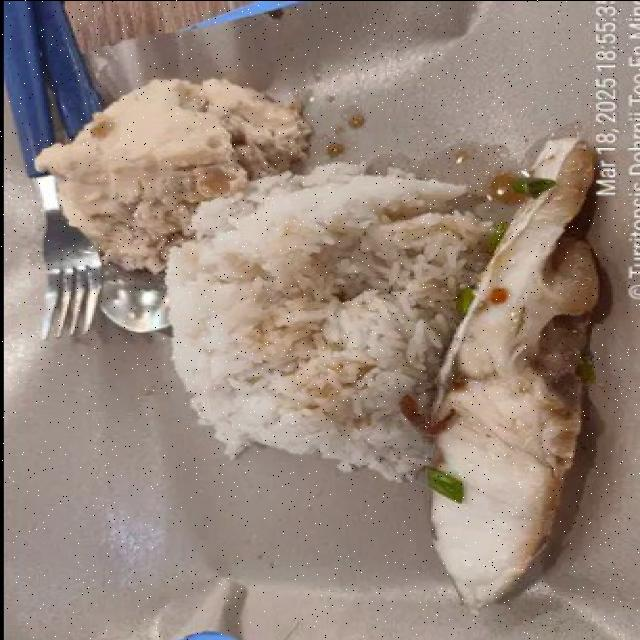Egg: (40, 79, 309, 270)
Fish: (429, 138, 598, 605)
Rice: (167, 163, 492, 481)
